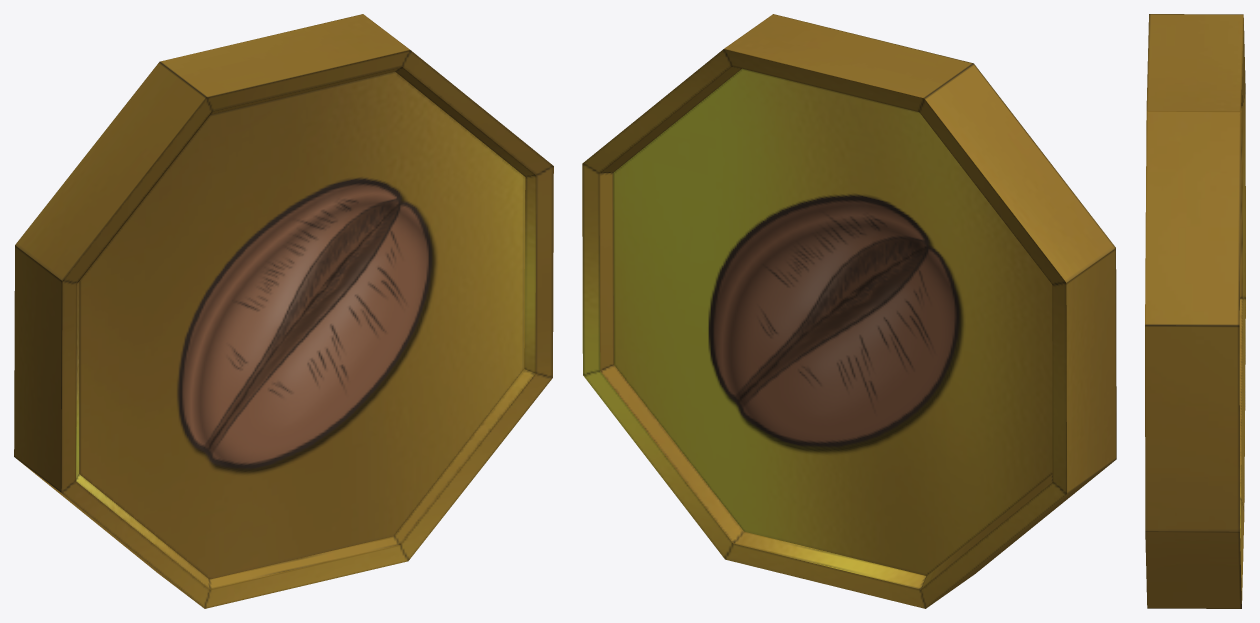
The model's file is Koin.fbx.
3 renders of one model, left to right at view 1: azimuth 30°, elevation 25°; view 2: azimuth 150°, elevation 25°; view 3: azimuth 270°, elevation 25°, orthographic. The views are drawn at different scales.
Parts seen in each view (by area): view 1: Cylinder; view 2: Cylinder; view 3: Cylinder.
Part boxes in pixels (x1,y1,x2,y2): Cylinder: [14, 14, 553, 608]; Cylinder: [582, 14, 1116, 608]; Cylinder: [1145, 14, 1245, 608].
Size of the model in its own units: 1.86 by 1.85 by 0.3393.
